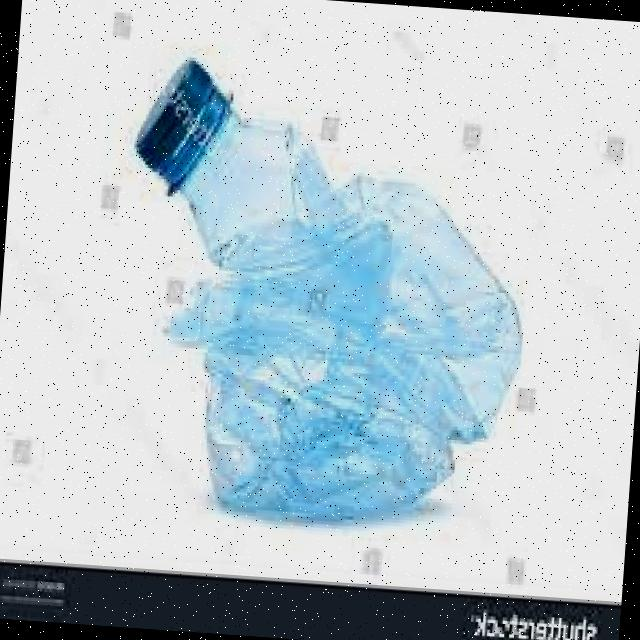bottle: (102, 39, 540, 546)
cap: (126, 49, 235, 197)
